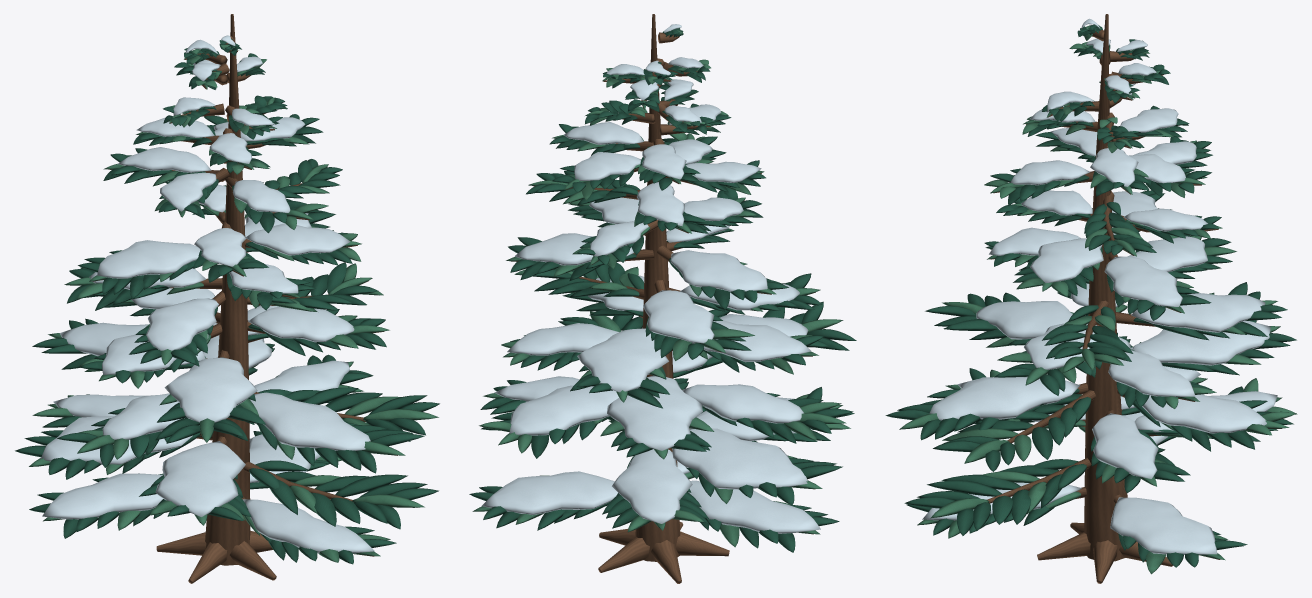
Rendered from pine_2.glb.
3 renders of one model, left to right at view 1: azimuth 30°, elevation 25°; view 2: azimuth 150°, elevation 25°; view 3: azimuth 270°, elevation 25°, orthographic.
Parts seen in each view (by area): view 1: pine_2; view 2: pine_2; view 3: pine_2.
Boxes of the visible parts, x1,y1,x2,y2 form: pine_2: [15, 14, 439, 583]; pine_2: [469, 14, 856, 583]; pine_2: [885, 14, 1297, 583].
Size of the model in its own units: 2.63 by 4.02 by 2.77.
4 materials, 4 textured.
